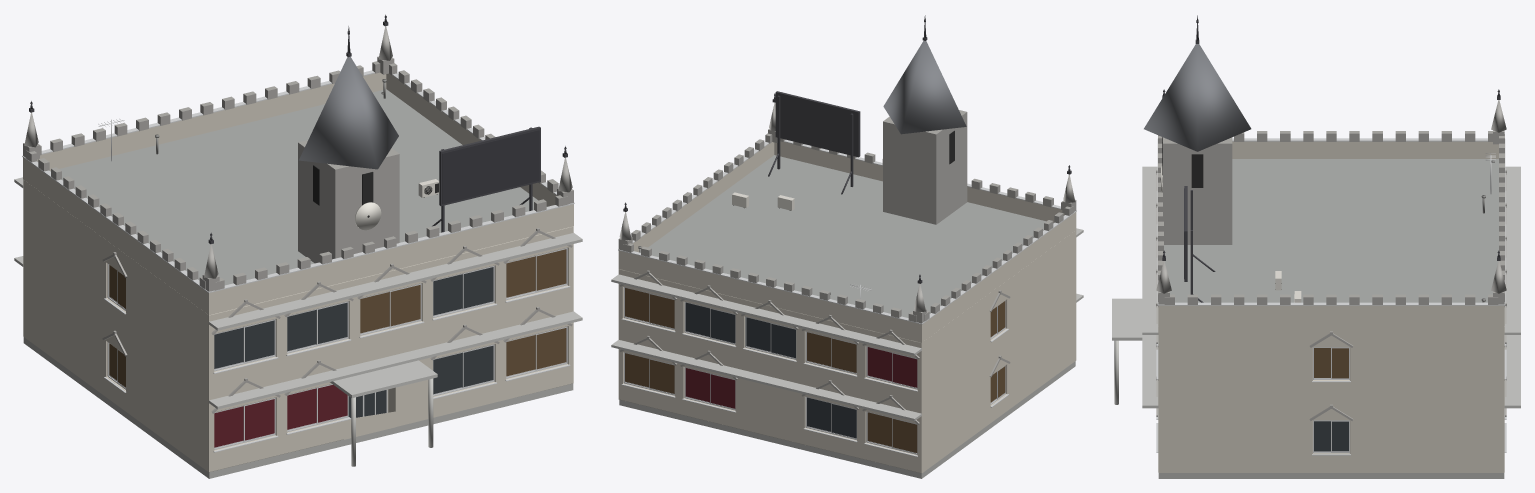
The model's file is blk_school.glb.
3 renders of one model, left to right at view 1: azimuth 30°, elevation 25°; view 2: azimuth 150°, elevation 25°; view 3: azimuth 270°, elevation 25°, orthographic. The views are drawn at different scales.
Visible parts, largest first — view 1: blk_school; view 2: blk_school; view 3: blk_school.
Part boxes in pixels (x1,y1,x2,y2): blk_school: (14, 14, 582, 478); blk_school: (611, 15, 1083, 478); blk_school: (1112, 15, 1520, 478).
Bounding box in the file's own units: 17.2 × 17.8 × 17.7.
